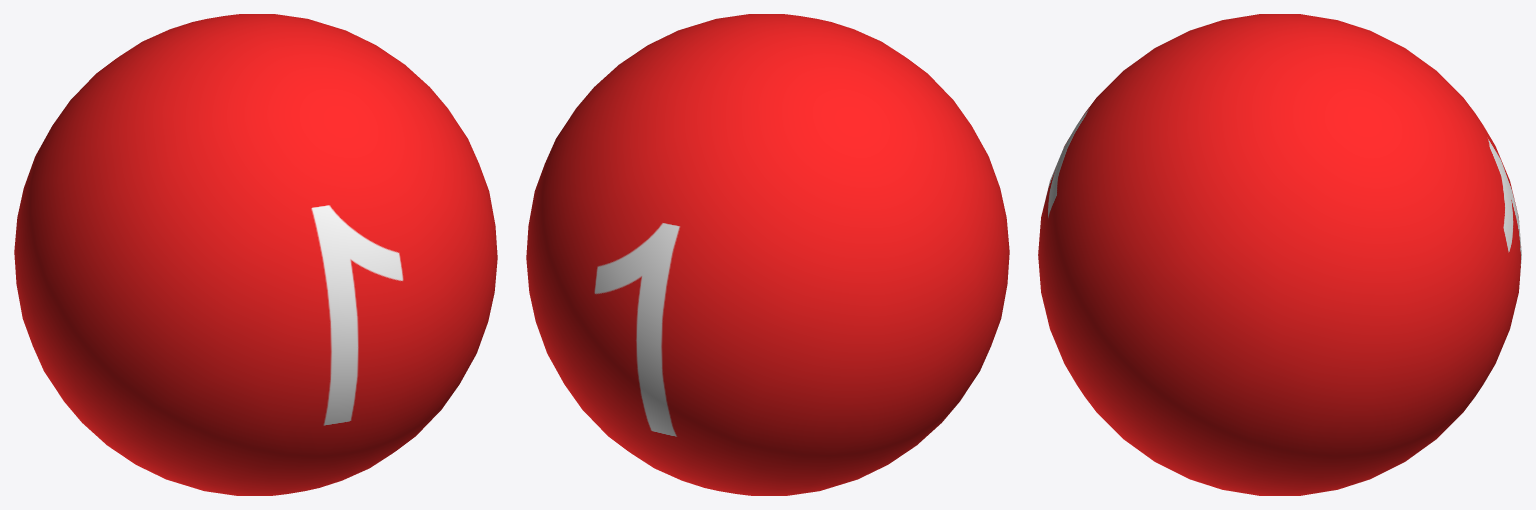
The model's file is Ball_1.fbx.
3 views of the same model, side by side, from view 1: azimuth 30°, elevation 25°; view 2: azimuth 150°, elevation 25°; view 3: azimuth 270°, elevation 25° (orthographic).
Parts seen in each view (by area): view 1: Ball_1; view 2: Ball_1; view 3: Ball_1.
Part boxes in pixels (x1=…): Ball_1: x1=14, y1=14, x2=497, y2=495; Ball_1: x1=526, y1=14, x2=1009, y2=495; Ball_1: x1=1038, y1=14, x2=1521, y2=495.
Size of the model in its own units: 20 by 20 by 20.
1 material, 1 textured.
